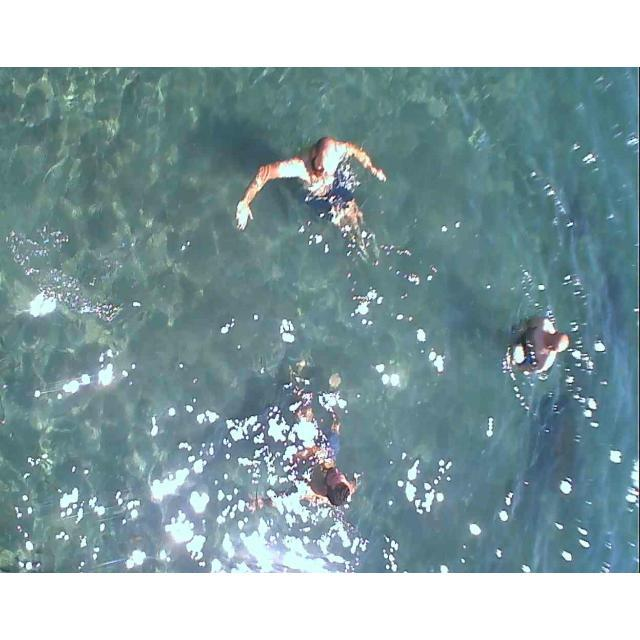human: (242, 127, 380, 249), (270, 368, 357, 510), (518, 307, 565, 381)
